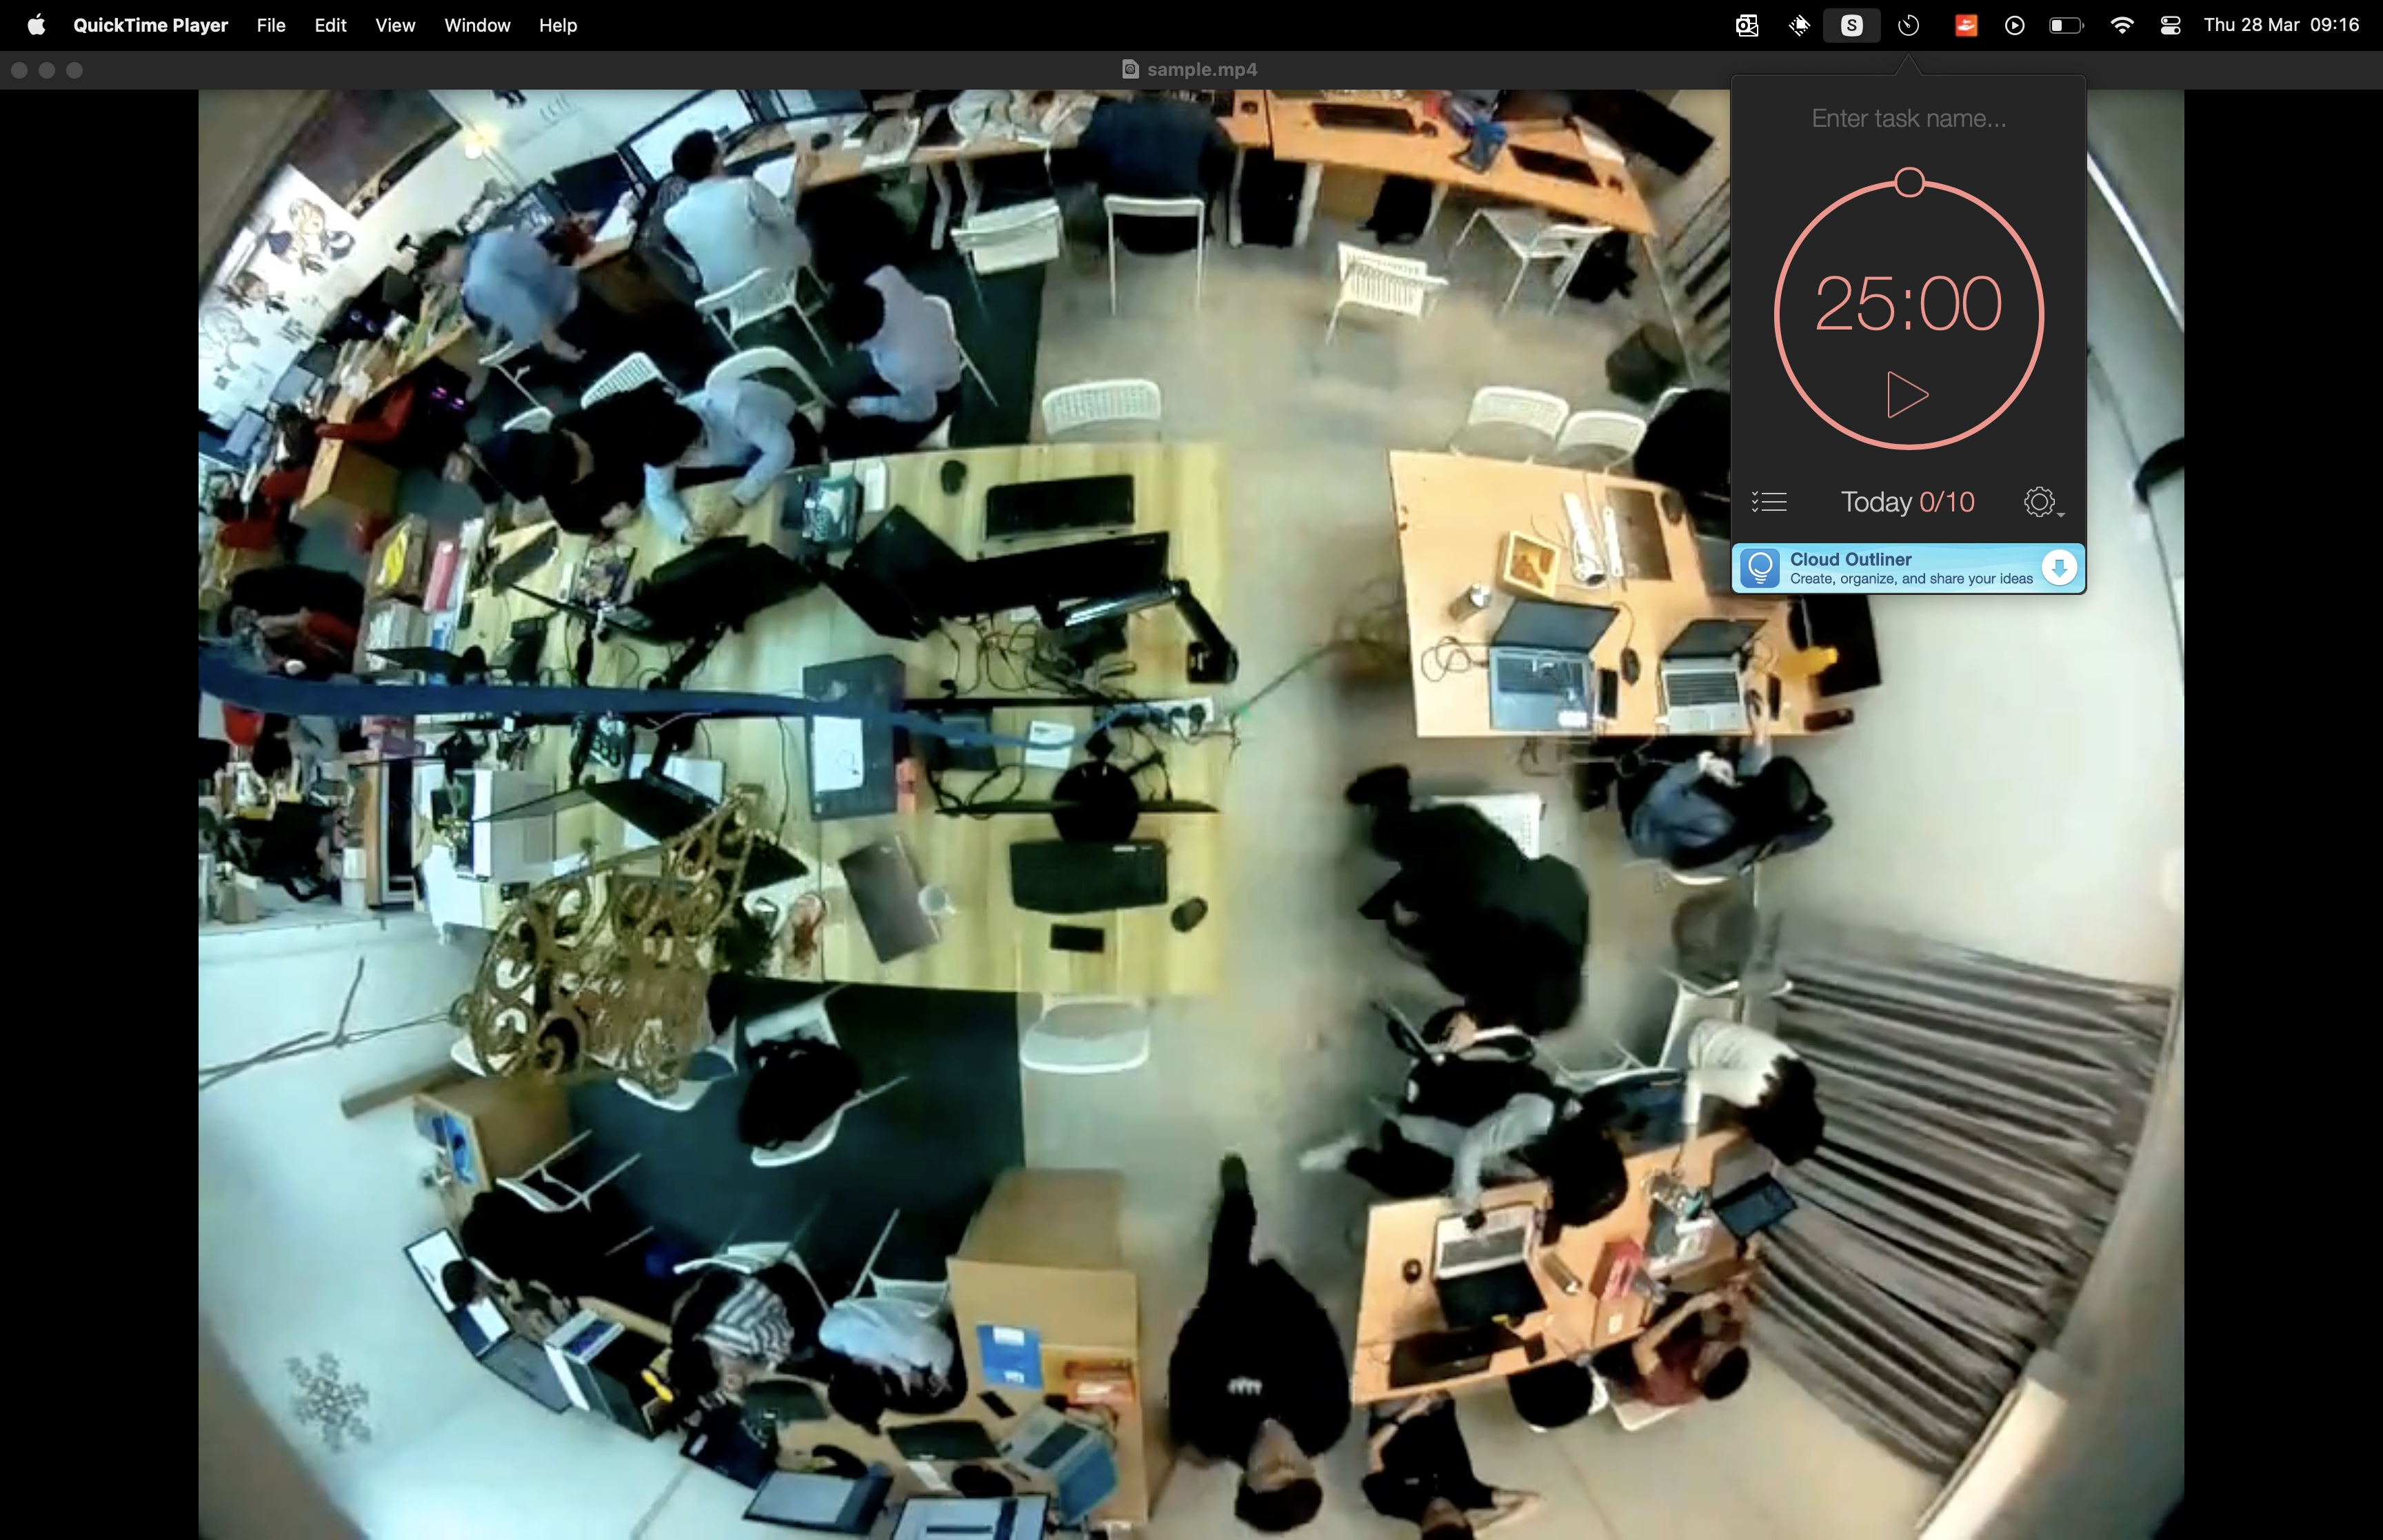Staff: (1169, 1155, 1351, 1535)
